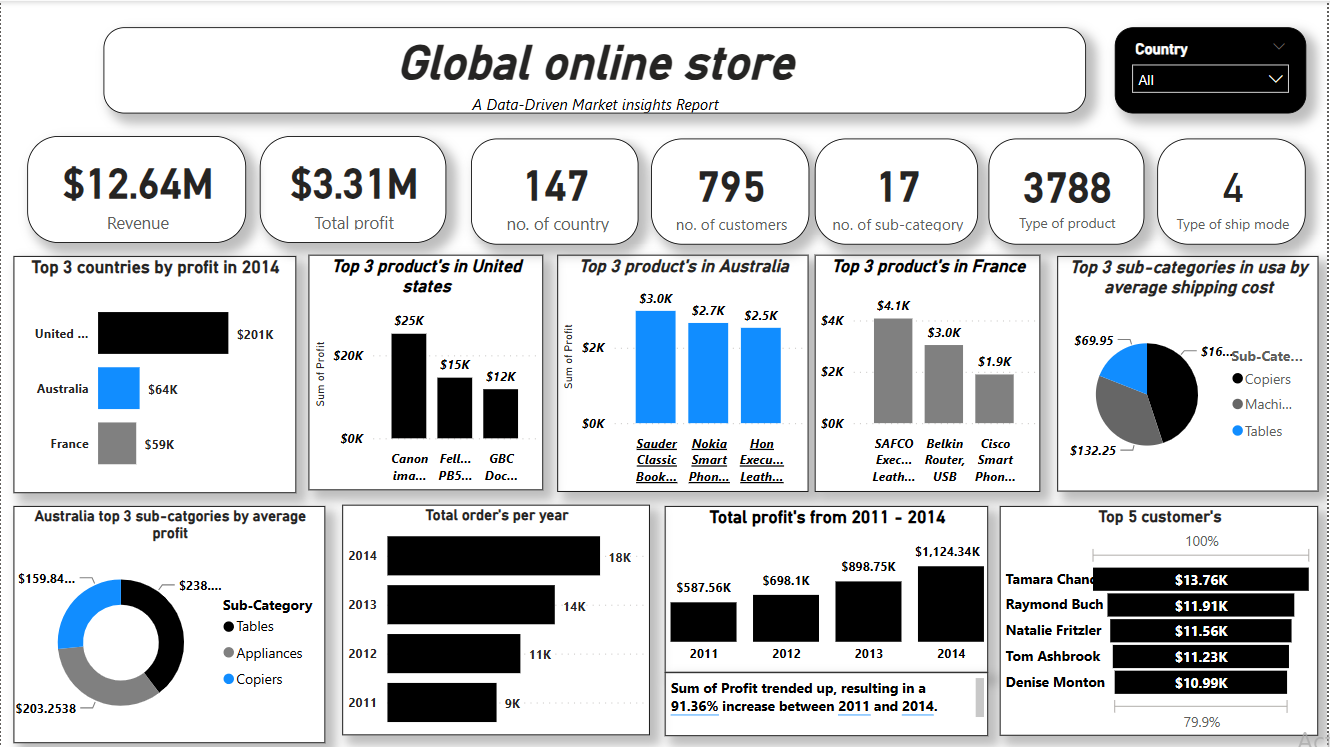

What the dashboard file says about the page in this screenshot:
{"tool":"powerbi","page":{"name":"Page 1","canvas":[1280,720],"ordinal":0},"visuals":[{"type":"clusteredBarChart","title":"Top 3 countries by profit in 2014","fields":{"Category":["ORDER_TABLE.Country","ORDER_TABLE.Order Date.Variation.Date Hierarchy.Year"],"Y":["ORDER_TABLE.Profit"]},"box":[12.3,246.6,272.5,228.9],"z":0},{"type":"card","title":"REVENUE","fields":{"Values":["ORDER_TABLE.Profit"]},"box":[249.3,130.8,179.8,103.5],"z":1000},{"type":"clusteredColumnChart","title":"Top 3 product''s in Australia","fields":{"Category":["ORDER_TABLE.Product Name"],"Y":["ORDER_TABLE.Profit"]},"box":[536.7,245.2,242.5,228.9],"z":2000},{"type":"clusteredColumnChart","title":"Top 3 product''s in France ","fields":{"Category":["ORDER_TABLE.Product Name"],"Y":["ORDER_TABLE.Profit"]},"box":[784.7,245.2,218,228.9],"z":3000},{"type":"clusteredColumnChart","title":"Top 3 product''s in United states","fields":{"Category":["ORDER_TABLE.Product Name"],"Y":["ORDER_TABLE.Profit"]},"box":[297,245.2,226.1,227.5],"z":4000},{"type":"pieChart","title":"Top 3 sub-categories  in usa by average shipping cost","fields":{"Category":["ORDER_TABLE.Sub-Category"],"Y":["ORDER_TABLE.AVG SC"],"Series":["ORDER_TABLE.Country"]},"box":[1019,246.6,252,227.5],"z":5000},{"type":"card","title":"TOTAL COUNTRIES","fields":{"Values":["ORDER_TABLE.Country"]},"box":[453.5,132.7,161.6,102.5],"z":6000},{"type":"card","fields":{"Values":["ORDER_TABLE.Customer Name"]},"box":[627.1,132.7,153.2,102.5],"z":7000},{"type":"card","fields":{"Values":["ORDER_TABLE.Sub-Category"]},"box":[785.1,132.7,158,102.5],"z":8000},{"type":"card","fields":{"Values":["ORDER_TABLE.Product Name"]},"box":[952.8,132.7,150.8,102.5],"z":9000},{"type":"slicer","fields":{"Values":["ORDER_TABLE.Country"]},"box":[1074.6,25.3,184.5,83.2],"z":10000},{"type":"donutChart","title":"Australia top 3 sub-catgories by average profit","fields":{"Category":["ORDER_TABLE.Sub-Category"],"Y":["ORDER_TABLE.Avg profit"]},"box":[12.3,487.7,301.1,228.9],"z":11000},{"type":"lineStackedColumnComboChart","title":"Total profit''s from 2011 - 2014","fields":{"Category":["ORDER_TABLE.Order Date.Variation.Date Hierarchy.Year"],"Y":["ORDER_TABLE.Profit"]},"box":[640.4,487.2,312.4,160.4],"z":12000},{"type":"textbox","box":[640.4,647.6,312.4,61.5],"z":13000},{"type":"funnel","title":"Top 5 customer''s","fields":{"Y":["ORDER_TABLE.Profit"],"Category":["ORDER_TABLE.Customer Name"]},"box":[963.6,487.2,307.5,221.9],"z":14000},{"type":"clusteredBarChart","title":"Total order''s per year","fields":{"Category":["ORDER_TABLE.Order Date.Variation.Date Hierarchy.Year"],"Y":["ORDER_TABLE.Order ID"]},"box":[329.7,486.3,297,222.1],"z":15000},{"type":"card","fields":{"Values":["ORDER_TABLE.Ship Mode"]},"box":[1115.6,132.7,143.5,102.5],"z":16000},{"type":"card","fields":{"Values":["ORDER_TABLE.Sales"]},"box":[25.9,130.8,211.2,103.5],"z":17000},{"type":"textbox","title":"Global online store","box":[99.4,25.9,948.2,83.1],"z":18000}]}

Visuals, with their boxes in screenshot pixels (x1, y1, x2, y2), scaled from the page's 1280x720 canvas onto the 1330x747 screenshot:
"Top 3 countries by profit in 2014" clusteredBarChart: [13, 256, 296, 493]
"REVENUE" card: [259, 136, 446, 243]
"Top 3 product''s in Australia" clusteredColumnChart: [558, 254, 810, 492]
"Top 3 product''s in France " clusteredColumnChart: [815, 254, 1042, 492]
"Top 3 product''s in United states" clusteredColumnChart: [309, 254, 544, 490]
"Top 3 sub-categories  in usa by average shipping cost" pieChart: [1059, 256, 1321, 492]
"TOTAL COUNTRIES" card: [471, 138, 639, 244]
card - ORDER_TABLE.Customer Name: [652, 138, 811, 244]
card - ORDER_TABLE.Sub-Category: [816, 138, 980, 244]
card - ORDER_TABLE.Product Name: [990, 138, 1147, 244]
slicer - ORDER_TABLE.Country: [1117, 26, 1308, 113]
"Australia top 3 sub-catgories by average profit" donutChart: [13, 506, 326, 743]
"Total profit''s from 2011 - 2014" lineStackedColumnComboChart: [665, 505, 990, 672]
textbox: [665, 672, 990, 736]
"Top 5 customer''s" funnel: [1001, 505, 1321, 736]
"Total order''s per year" clusteredBarChart: [343, 505, 651, 735]
card - ORDER_TABLE.Ship Mode: [1159, 138, 1308, 244]
card - ORDER_TABLE.Sales: [27, 136, 246, 243]
"Global online store" textbox: [103, 27, 1089, 113]
